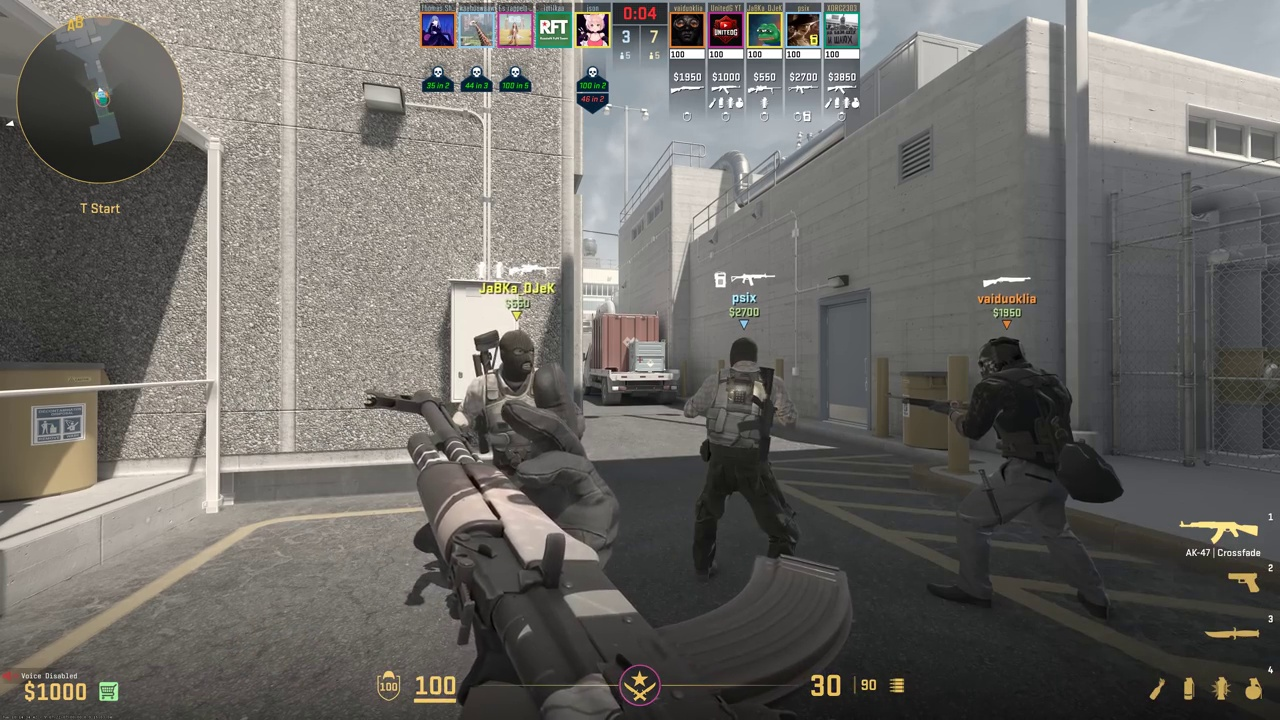Terrorist: (950, 335, 1109, 610), (691, 338, 803, 582), (455, 328, 570, 473), (446, 394, 453, 400)
